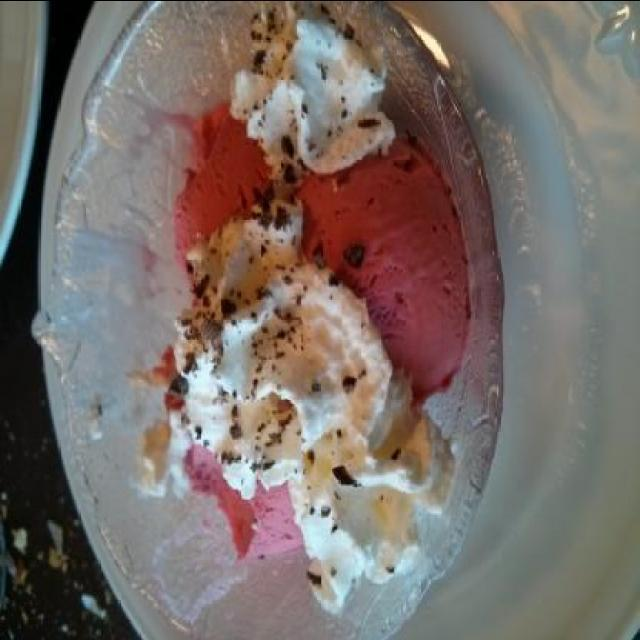Ice cream: (132, 80, 488, 624)
